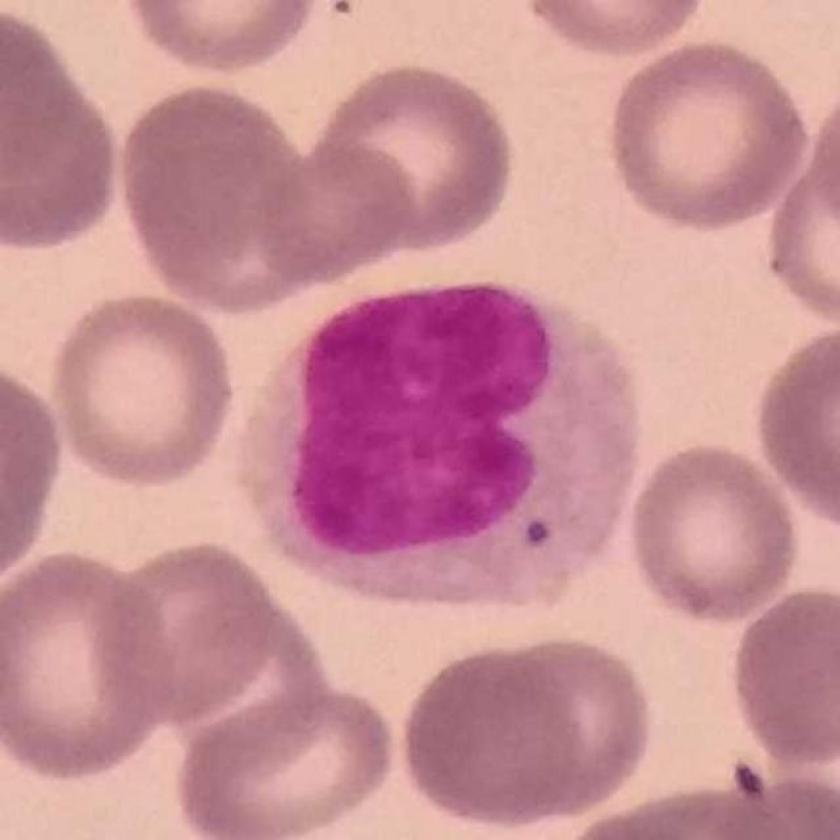monocyte: (240, 281, 648, 609)
